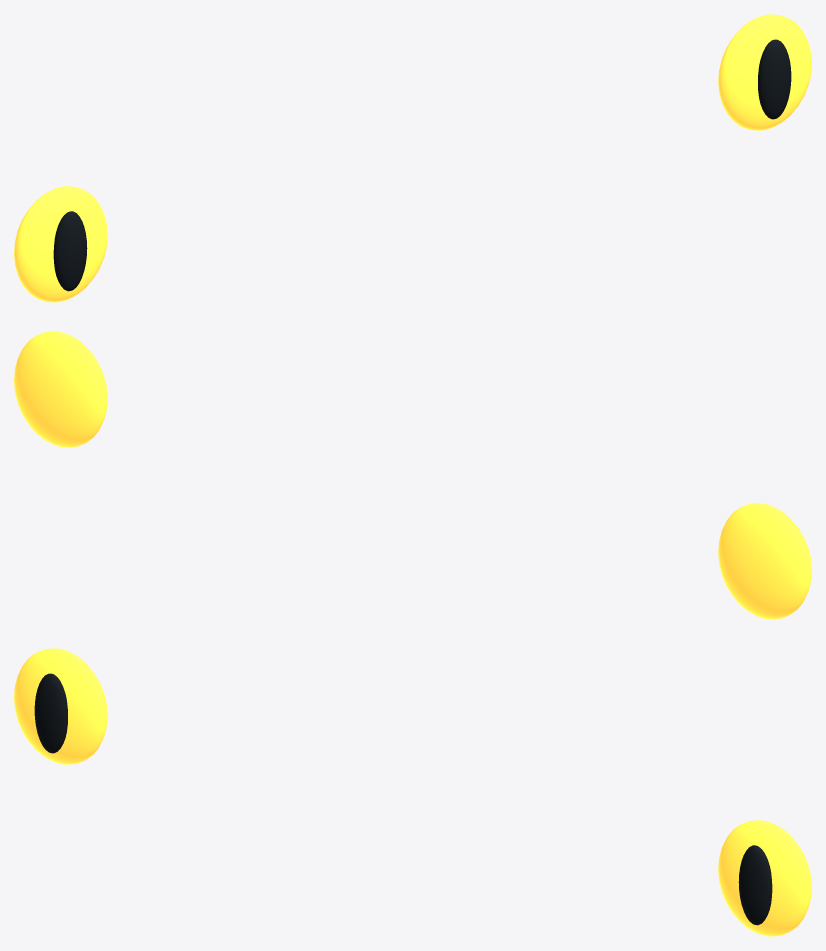
The model's file is sanctum-eyes-v01.glb.
3 views of the same model, one above another, from view 1: azimuth 30°, elevation 25°; view 2: azimuth 150°, elevation 25°; view 3: azimuth 330°, elevation 25° (orthographic).
Parts seen in each view (by area): view 1: Sanctum Guardian amber light, Sanctum Guardian recessed dark; view 2: Sanctum Guardian amber light; view 3: Sanctum Guardian amber light, Sanctum Guardian recessed dark.
Boxes of the visible parts, bbox=[...] form: Sanctum Guardian amber light: bbox=[14, 14, 811, 302]; Sanctum Guardian recessed dark: bbox=[53, 39, 791, 291]; Sanctum Guardian amber light: bbox=[14, 331, 811, 619]; Sanctum Guardian amber light: bbox=[14, 648, 811, 936]; Sanctum Guardian recessed dark: bbox=[34, 673, 772, 925].
Bounding box in the file's own units: 0.294 × 0.04 × 0.015.
